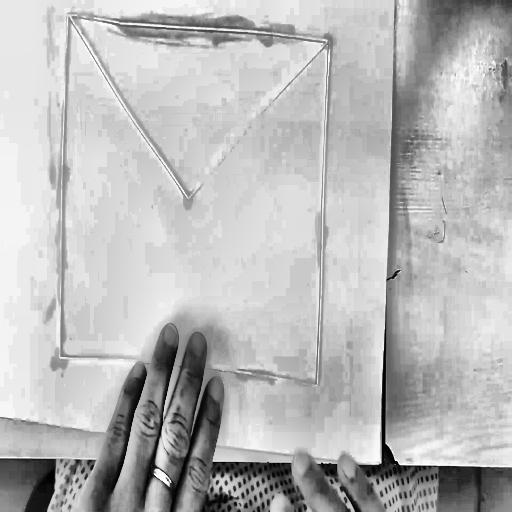bottom_right: (377, 458, 383, 468)
envelop: (53, 7, 338, 396)
